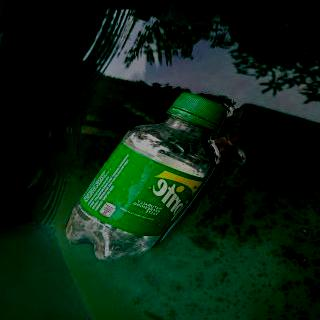bottle: (64, 90, 230, 262)
